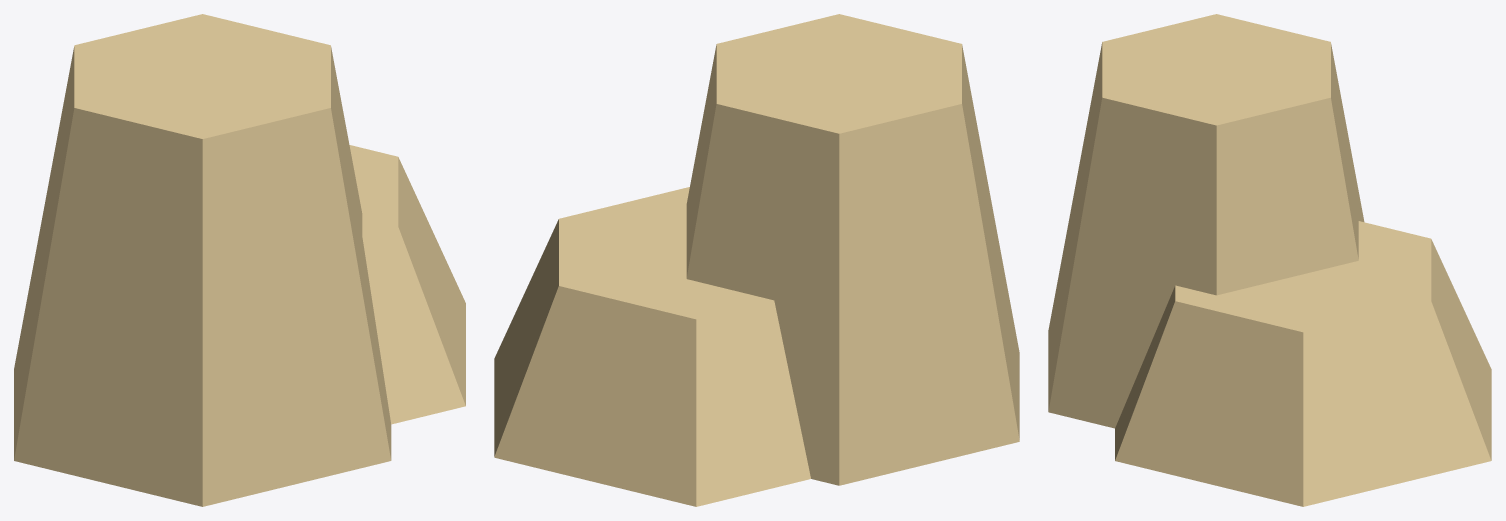
Rendered from resourceStone.fbx.
3 renders of one model, left to right at view 1: azimuth 30°, elevation 25°; view 2: azimuth 150°, elevation 25°; view 3: azimuth 270°, elevation 25°, orthographic. The views are drawn at different scales.
Parts seen in each view (by area): view 1: resourceStone; view 2: resourceStone; view 3: resourceStone.
Boxes of the visible parts, left/top/right/bottom form: resourceStone: left=14, top=14, right=465, bottom=506; resourceStone: left=494, top=14, right=1019, bottom=506; resourceStone: left=1048, top=14, right=1491, bottom=506.
Bounding box in the file's own units: 1.65 × 1.07 × 1.42.
